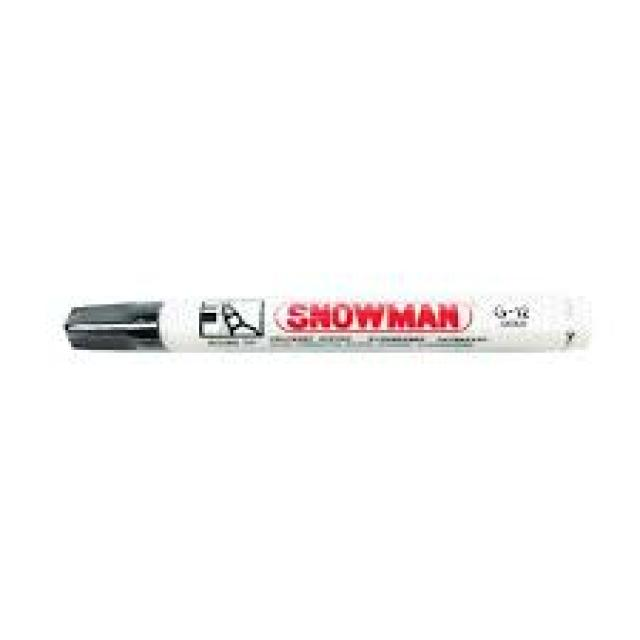marker: (64, 279, 599, 355)
